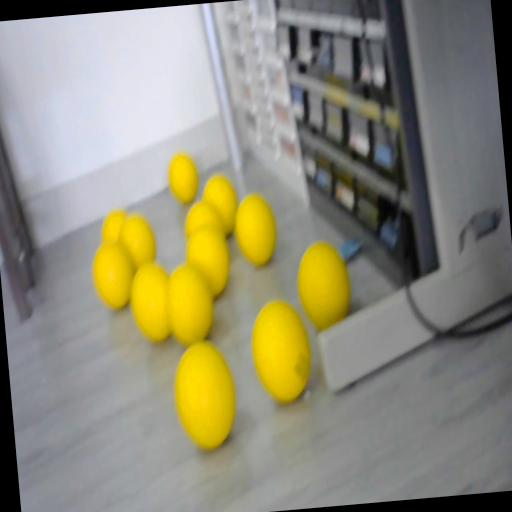FUEL: (169, 338, 241, 450), (246, 294, 316, 405), (294, 238, 354, 332), (182, 220, 233, 300), (127, 260, 175, 344), (231, 190, 280, 268), (89, 238, 138, 312), (200, 172, 240, 236), (166, 150, 200, 204), (100, 207, 130, 245)
